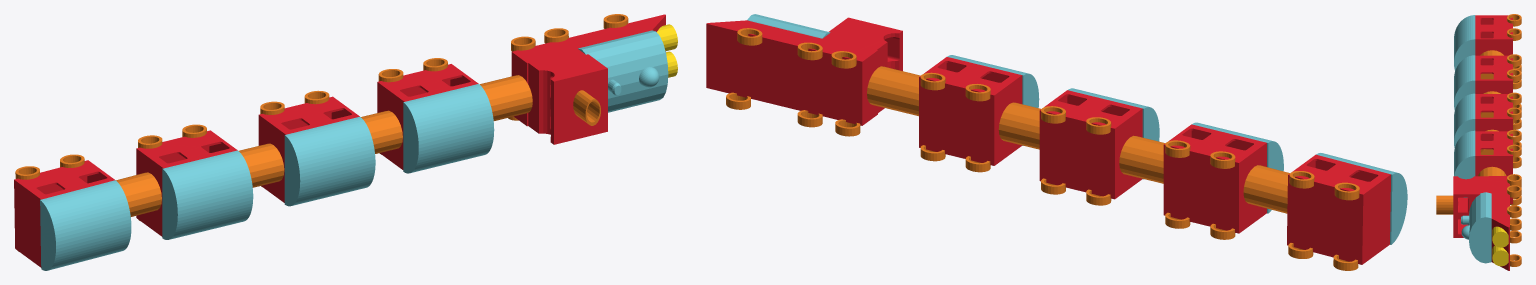
File: tinker.obj
3 views of the same model, side by side, from view 1: azimuth 30°, elevation 25°; view 2: azimuth 150°, elevation 25°; view 3: azimuth 270°, elevation 25° (orthographic). The views are drawn at different scales.
Parts seen in each view (by area): view 1: group_0_7720667, group_0_15277357, group_0_16089887, group_0_16768282; view 2: group_0_15277357, group_0_16089887, group_0_7720667; view 3: group_0_15277357, group_0_7720667, group_0_16089887, group_0_16768282.
Boxes of the visible parts, x1,y1,x2,y2 form: group_0_7720667: (40, 30, 668, 270); group_0_15277357: (14, 14, 665, 267); group_0_16089887: (15, 14, 628, 251); group_0_16768282: (657, 24, 677, 77); group_0_15277357: (706, 17, 1390, 264); group_0_16089887: (726, 28, 1359, 270); group_0_7720667: (747, 14, 1407, 244); group_0_15277357: (1453, 15, 1512, 270); group_0_7720667: (1454, 15, 1491, 263); group_0_16089887: (1436, 14, 1521, 266); group_0_16768282: (1492, 226, 1508, 266).
Bounding box in the file's own units: 175 × 22.41 × 29.
